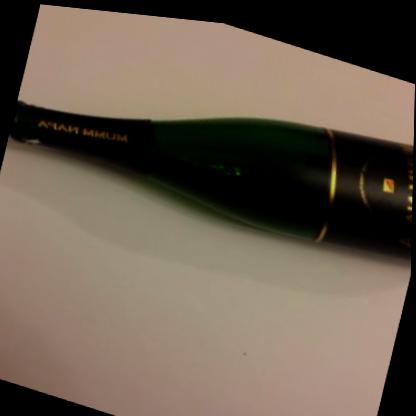Glass: (9, 100, 414, 249)
